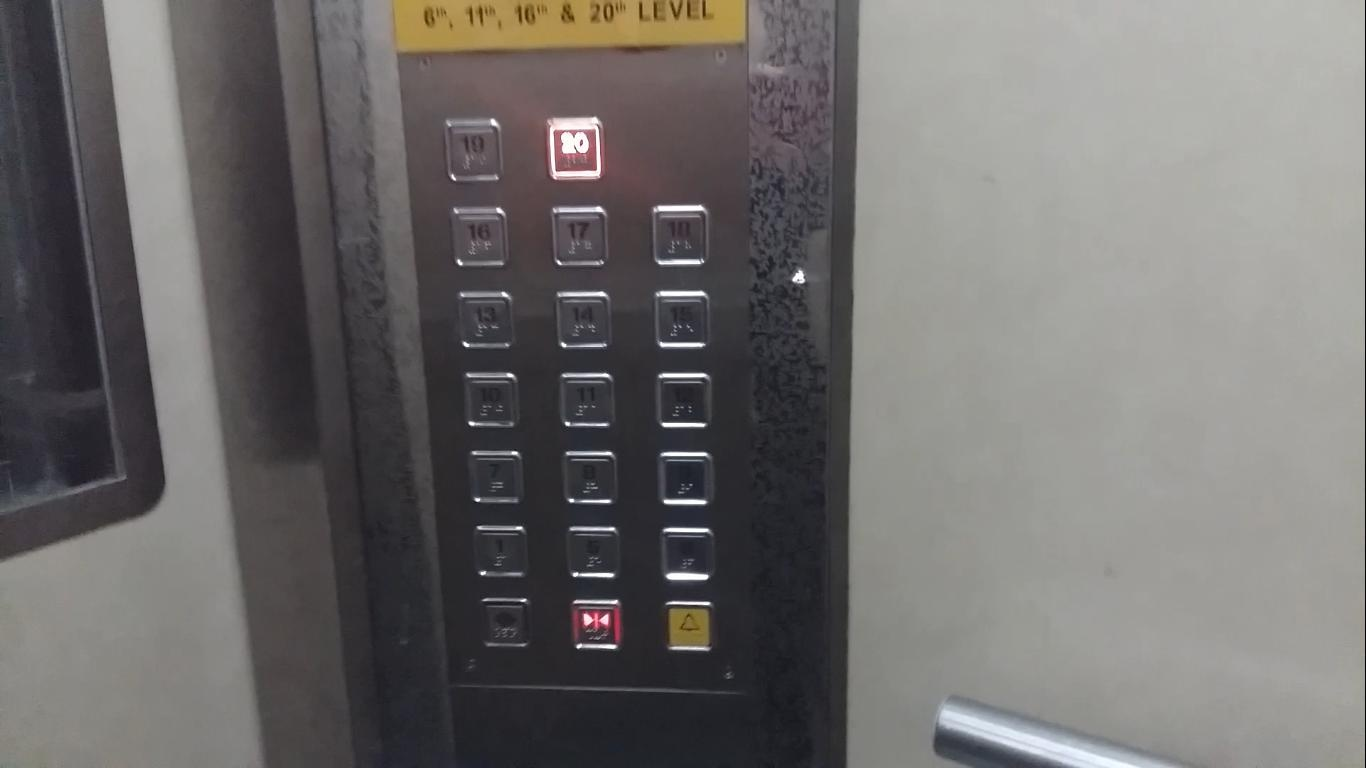1: (469, 520, 531, 583)
10: (459, 367, 520, 432)
11: (556, 368, 618, 432)
12: (654, 368, 716, 432)
13: (454, 286, 517, 352)
14: (552, 285, 615, 353)
15: (651, 286, 714, 354)
16: (447, 201, 513, 273)
17: (549, 202, 612, 270)
18: (648, 201, 712, 269)
19: (441, 113, 507, 185)
20: (542, 112, 608, 184)
7: (466, 445, 528, 508)
8: (559, 446, 621, 509)
alarm: (661, 596, 716, 657)
blur: (654, 447, 716, 510), (561, 521, 623, 584), (656, 522, 718, 585), (476, 593, 536, 653)
close: (568, 595, 625, 655)
